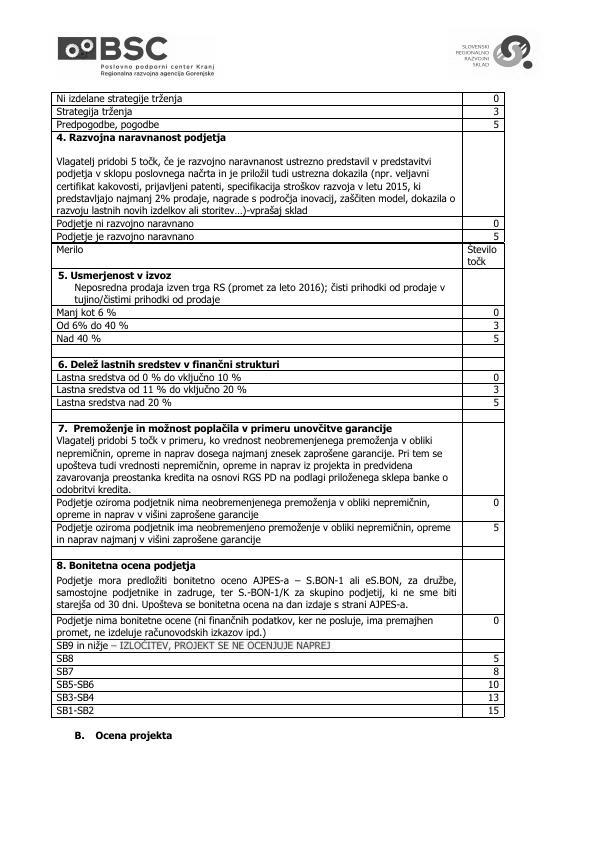table: (50, 90, 507, 720)
text: (72, 728, 176, 744)
